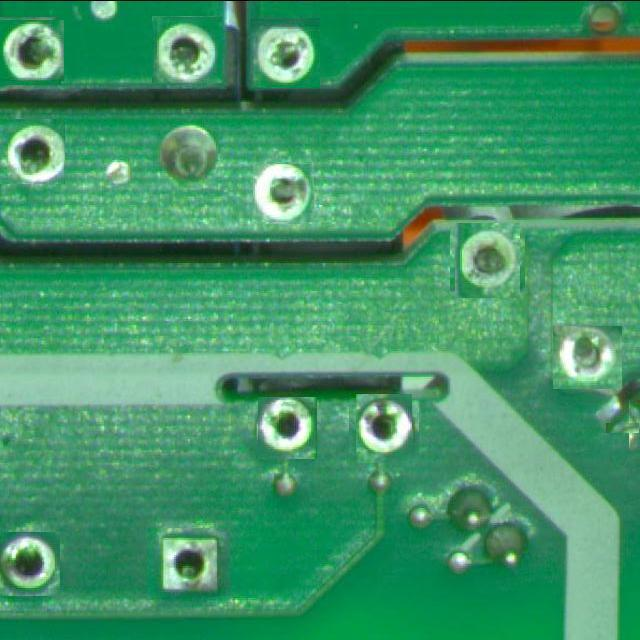lack_of_part: (147, 528, 230, 597), (452, 226, 523, 296), (251, 18, 320, 88), (152, 16, 222, 83), (553, 326, 622, 389), (0, 119, 65, 184), (352, 396, 416, 460), (0, 18, 62, 83), (0, 532, 60, 596), (257, 397, 317, 459), (253, 163, 313, 223), (617, 411, 640, 444)
